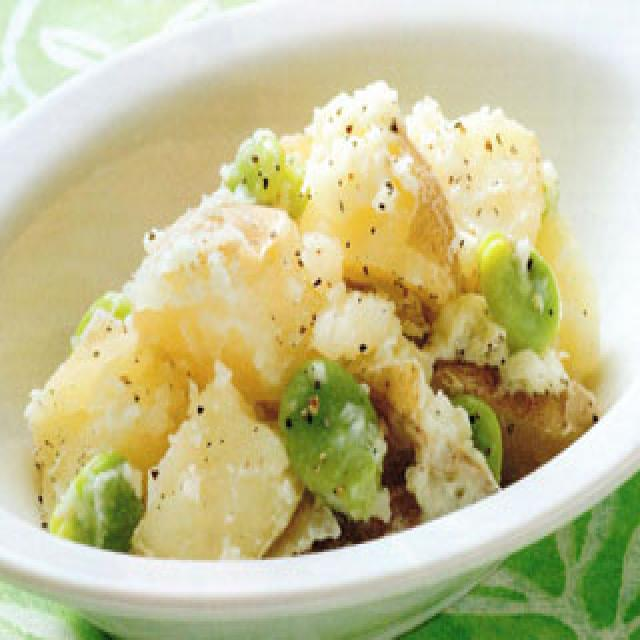蔬菜料理: (0, 2, 640, 640)
